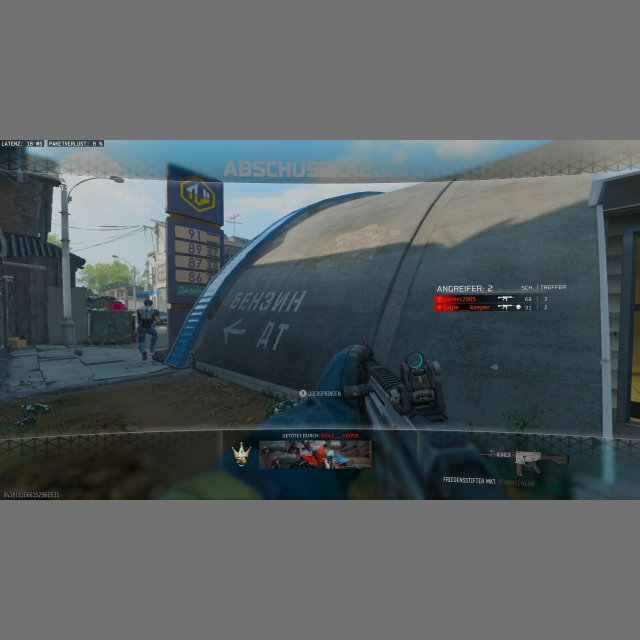head: (144, 299, 152, 308)
player: (134, 298, 165, 362)
